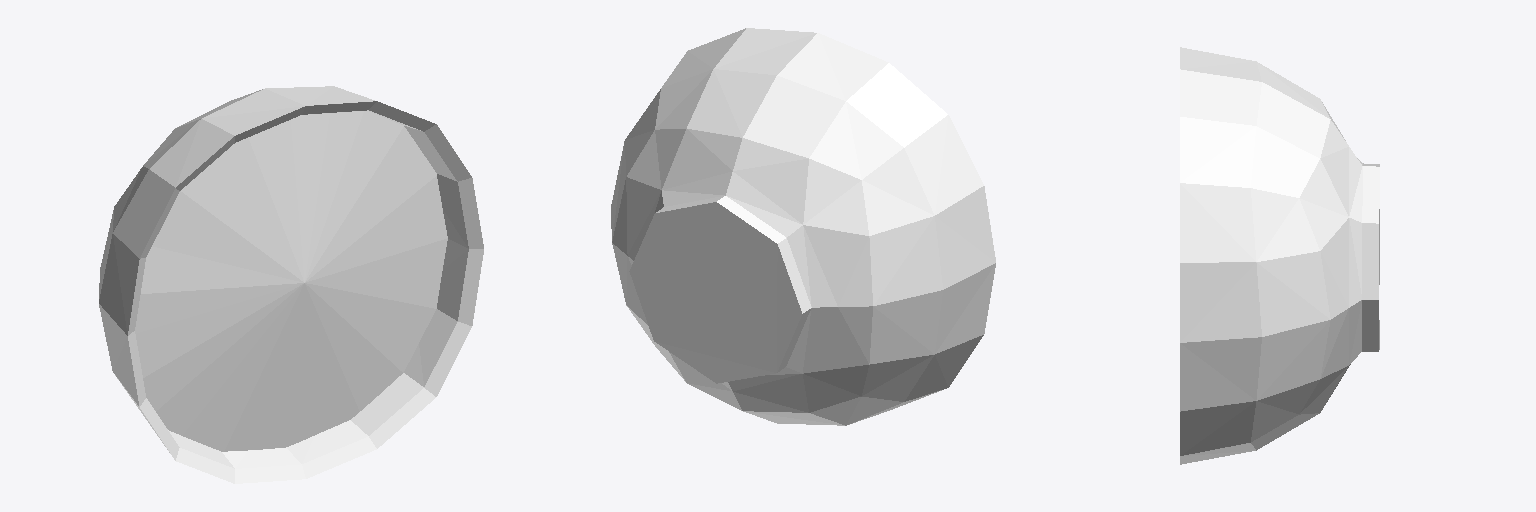
The model's file is beefstew.obj.
3 renders of one model, left to right at view 1: azimuth 30°, elevation 25°; view 2: azimuth 150°, elevation 25°; view 3: azimuth 270°, elevation 25°, orthographic.
Visible parts, largest first — view 1: Stew:10, Stew:2; view 2: Stew:2; view 3: Stew:2.
Boxes of the visible parts, x1=… form: Stew:10: x1=135, y1=111, x2=447, y2=451; Stew:2: x1=99, y1=86, x2=483, y2=483; Stew:2: x1=611, y1=28, x2=995, y2=425; Stew:2: x1=1180, y1=47, x2=1379, y2=464.
Size of the model in its own units: 12.35 by 12.35 by 6.